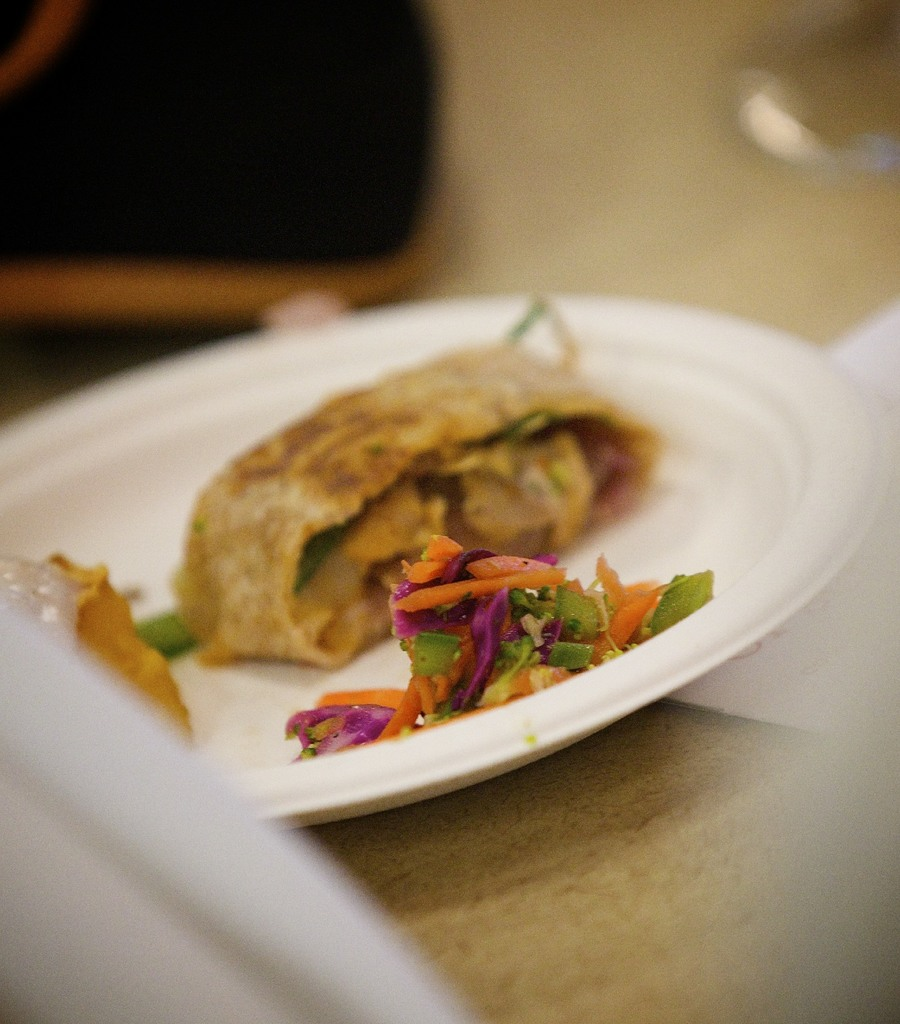plate: (0, 294, 874, 823)
